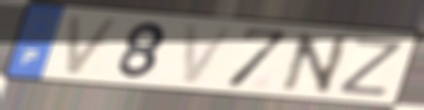7: (225, 26, 292, 91)
8: (116, 20, 168, 81)
N: (279, 32, 353, 96)
V: (62, 13, 125, 79), (180, 21, 238, 86)
Z: (335, 36, 408, 99)
